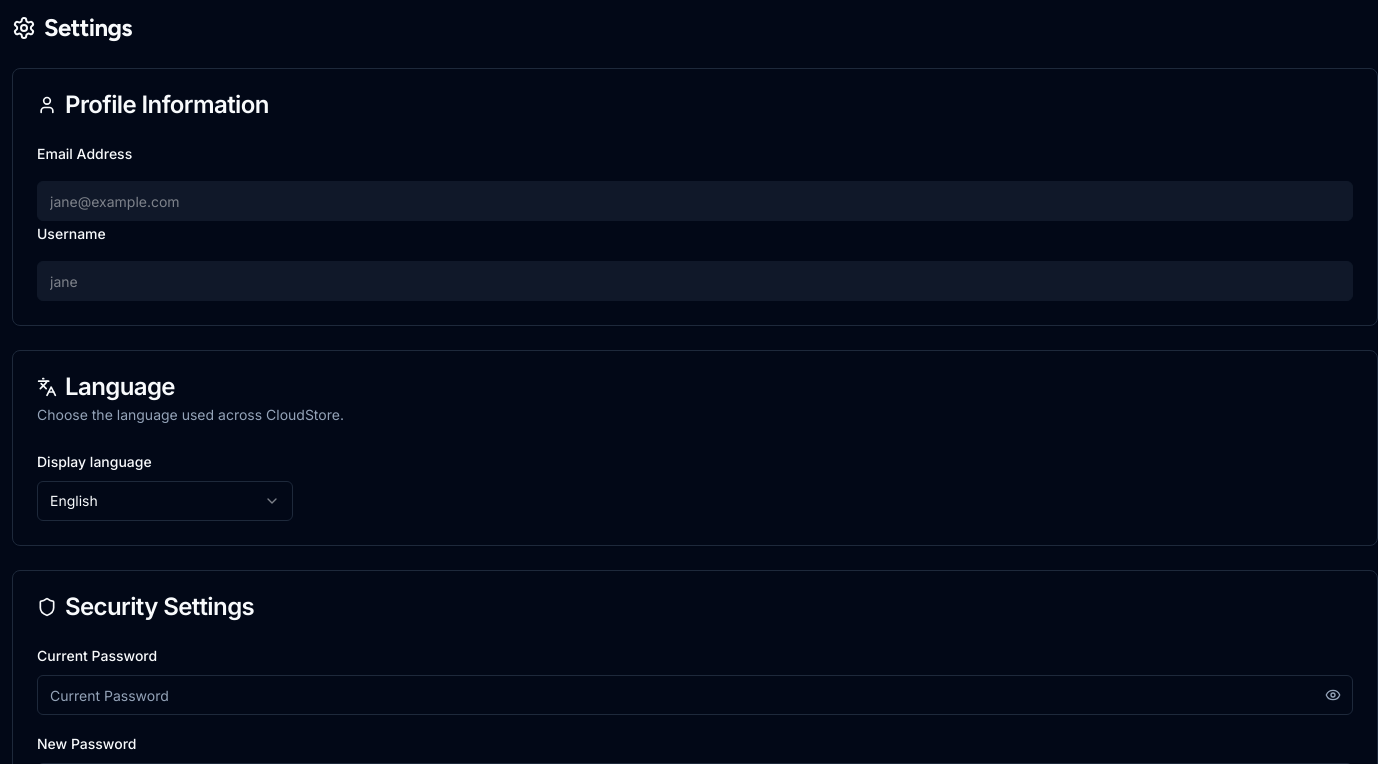
Test: SettingsPage › keeps focus while typing and toggles visibility
This screenshot has width=1378, height=764.
Expected: the heading "Settings" is shown, [44, 12, 132, 44]
Type "secret" into the password field labelled "Current Password" at (695, 695), box [37, 675, 1353, 715]
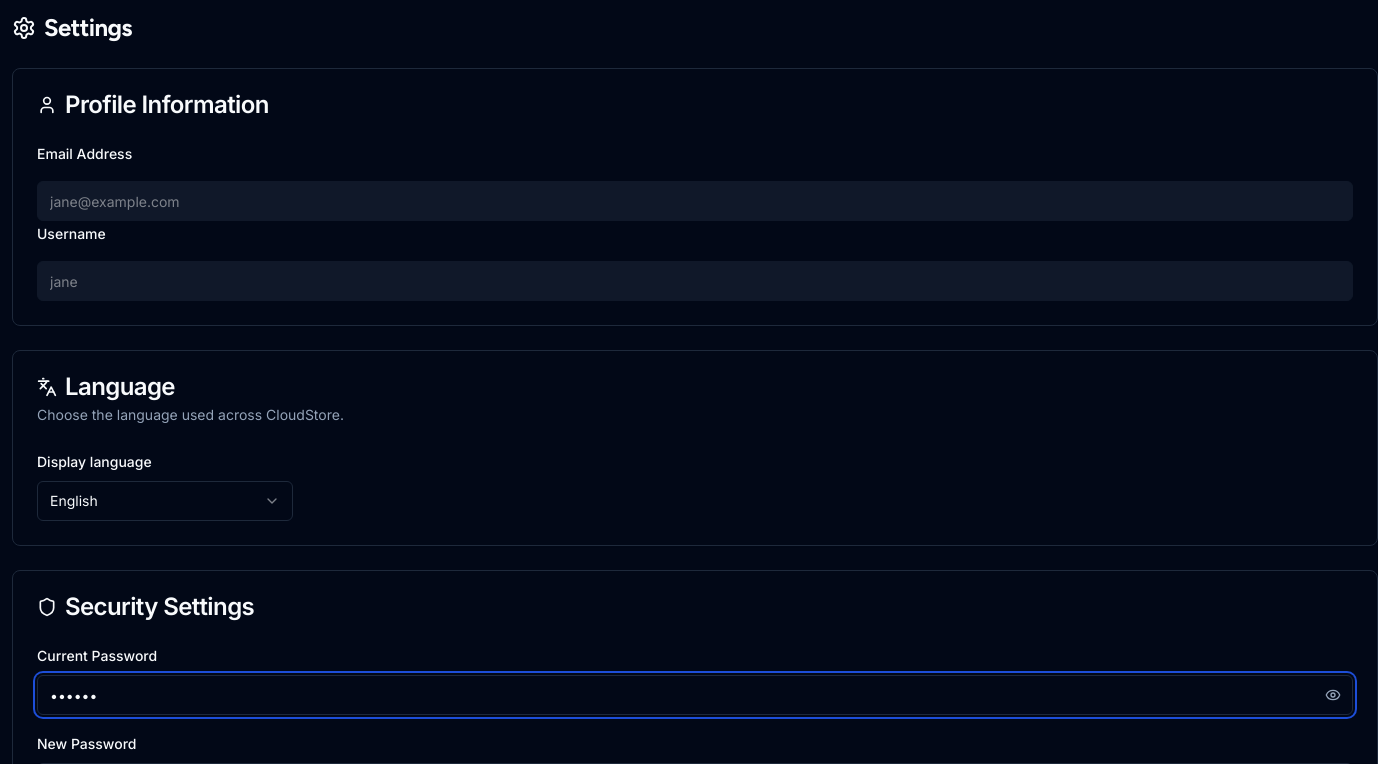
Click the 1st button named "Show password" at (1333, 695), box [1313, 675, 1353, 715]
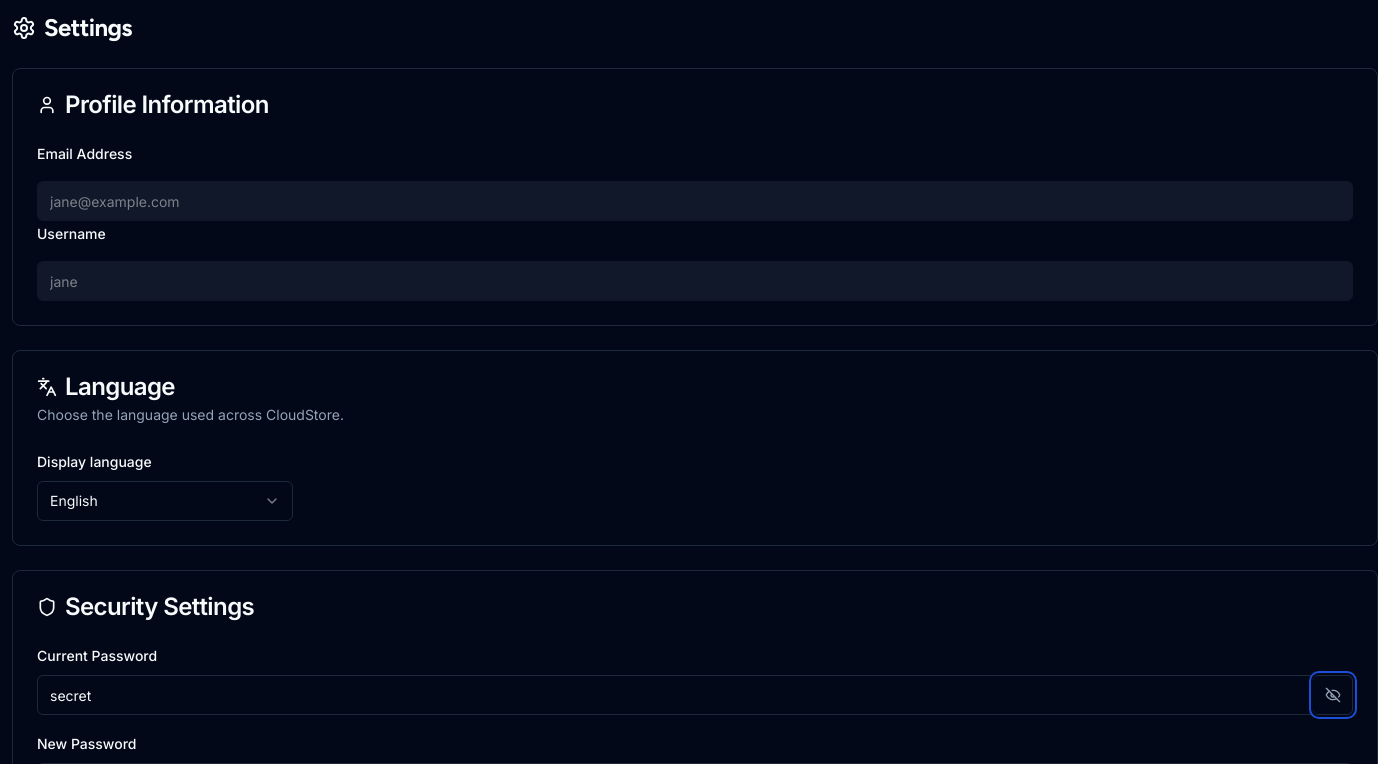
Expected: the number of buttons named "Hide password" is 1, [1313, 675, 1353, 715]
Expected: the field labelled "Current Password" shows its text, [37, 675, 1353, 715]
